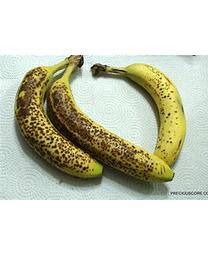banana: (18, 58, 187, 187)
